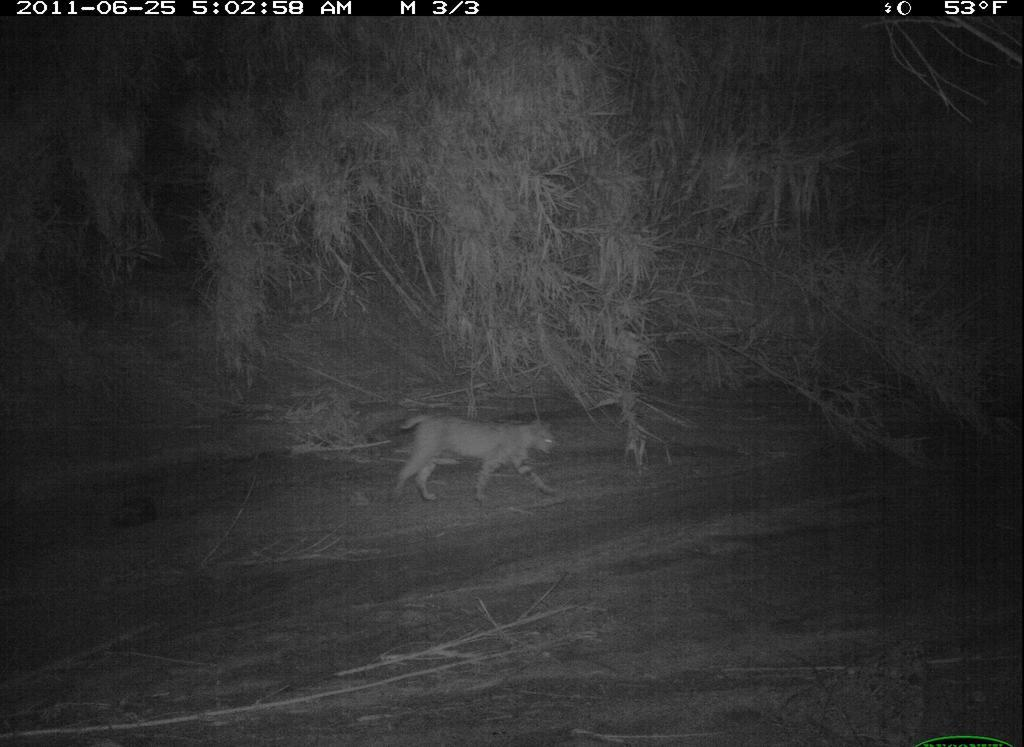bobcat: (390, 405, 569, 506)
